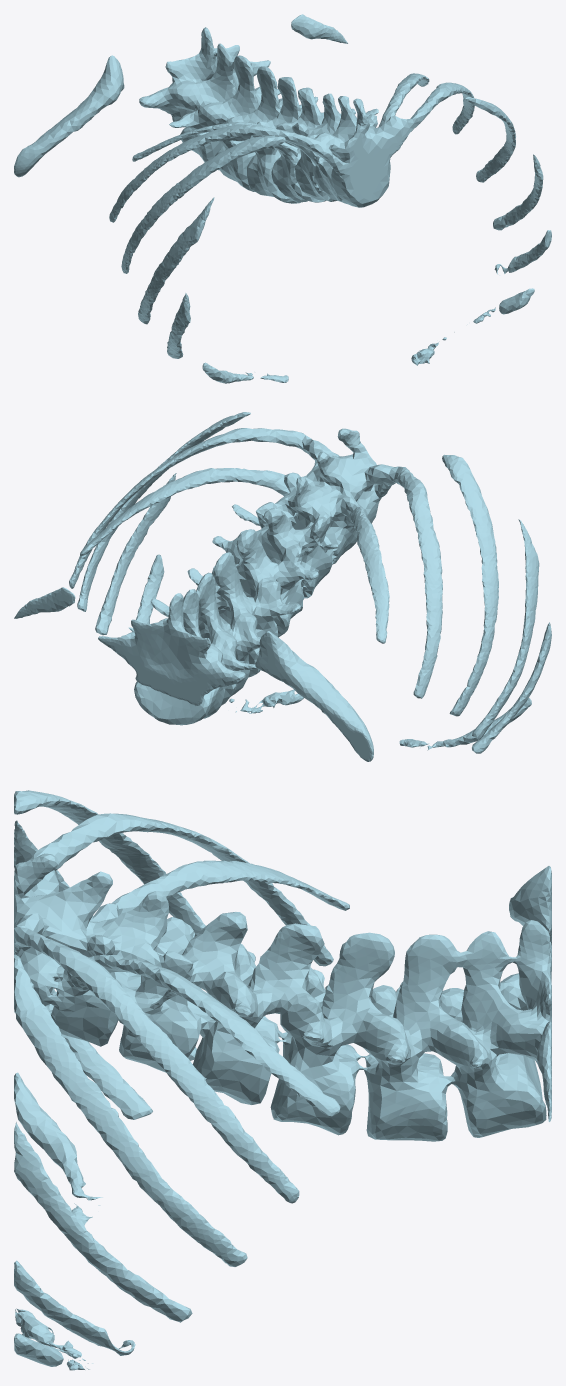
The model's file is bone.obj.
3 views of the same model, one above another, from view 1: azimuth 30°, elevation 25°; view 2: azimuth 150°, elevation 25°; view 3: azimuth 270°, elevation 25° (orthographic). The views are drawn at different scales.
Parts seen in each view (by area): view 1: grp1; view 2: grp1; view 3: grp1.
Part boxes in pixels (left/top/right/bottom): grp1: left=14, top=14, right=551, bottom=383; grp1: left=14, top=412, right=551, bottom=761; grp1: left=14, top=790, right=551, bottom=1370.
Size of the model in its own units: 257 by 179 by 198.
